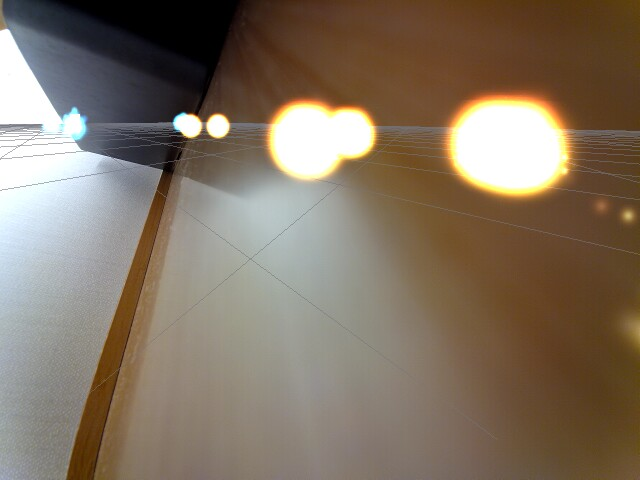firebig: (432, 73, 576, 202)
